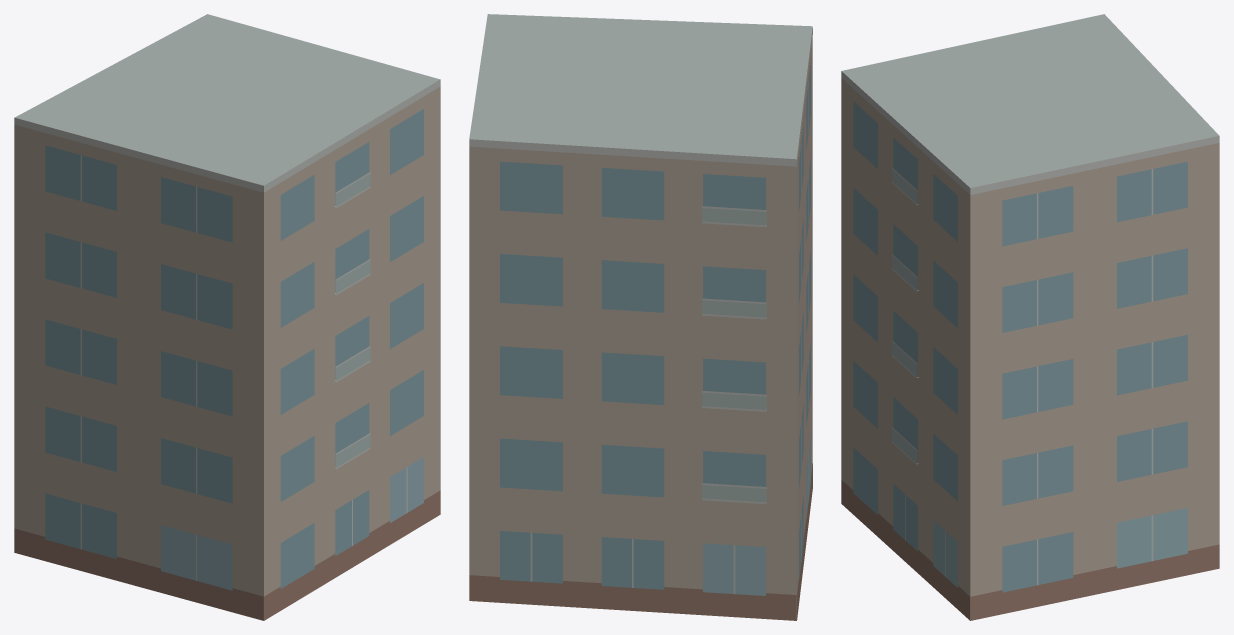
File: survey-upis-32739126.glb
3 views of the same model, side by side, from view 1: azimuth 30°, elevation 25°; view 2: azimuth 150°, elevation 25°; view 3: azimuth 270°, elevation 25° (orthographic). The views are drawn at different scales.
Parts seen in each view (by area): view 1: survey-upis-32739126.tmp; view 2: survey-upis-32739126.tmp; view 3: survey-upis-32739126.tmp.
Boxes of the visible parts, left/top/right/bottom form: survey-upis-32739126.tmp: left=14, top=14, right=440, bottom=620; survey-upis-32739126.tmp: left=469, top=14, right=812, bottom=620; survey-upis-32739126.tmp: left=841, top=14, right=1219, bottom=620.
Bounding box in the file's own units: 13.17 × 15.25 × 12.09.
